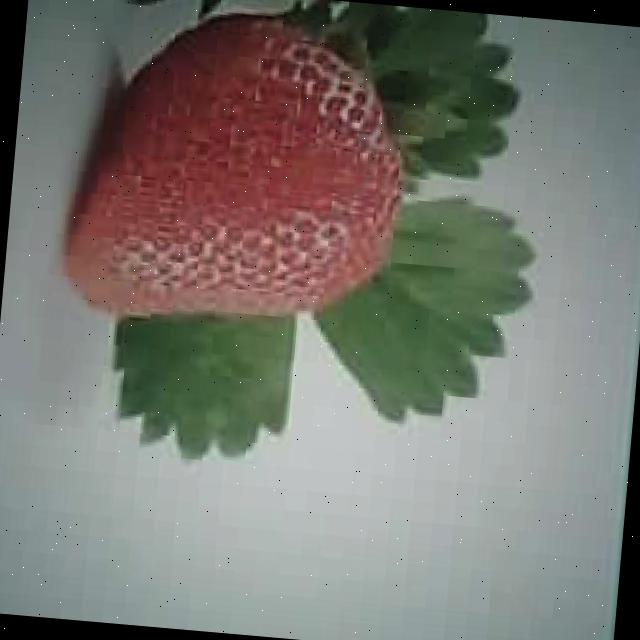strawberry: (68, 3, 417, 336)
